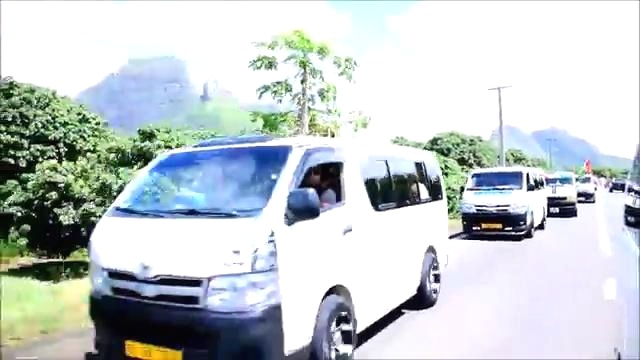van: (83, 141, 450, 360), (458, 165, 545, 239)
